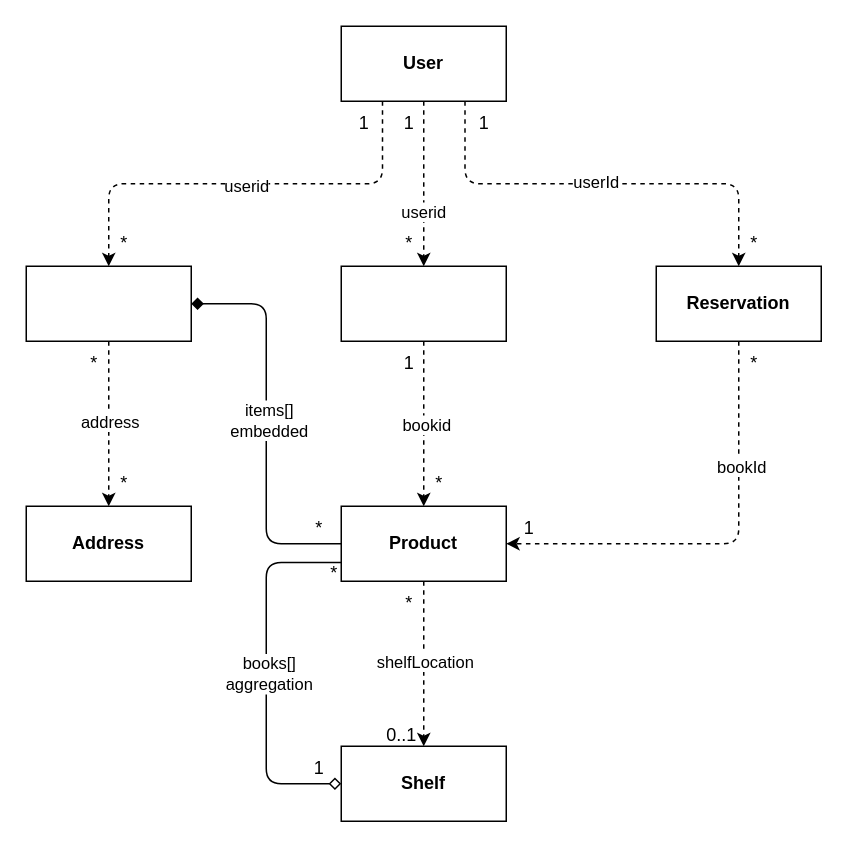
Some shapes in this 848 by 848 pixel diagram are drawn without their labels. The box of each missing label's shape, as (x1, y1, x2, y2) in pixels:
Loan: (340, 265, 506, 341)
Order: (25, 265, 191, 341)
